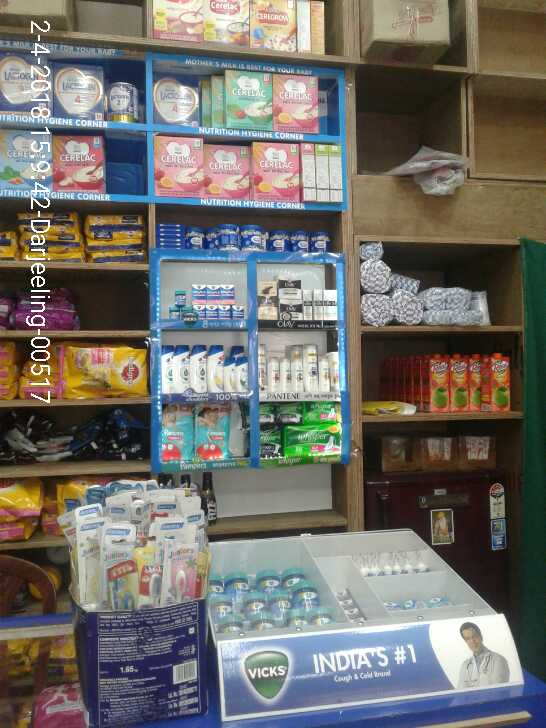vicks: (169, 281, 244, 320)
